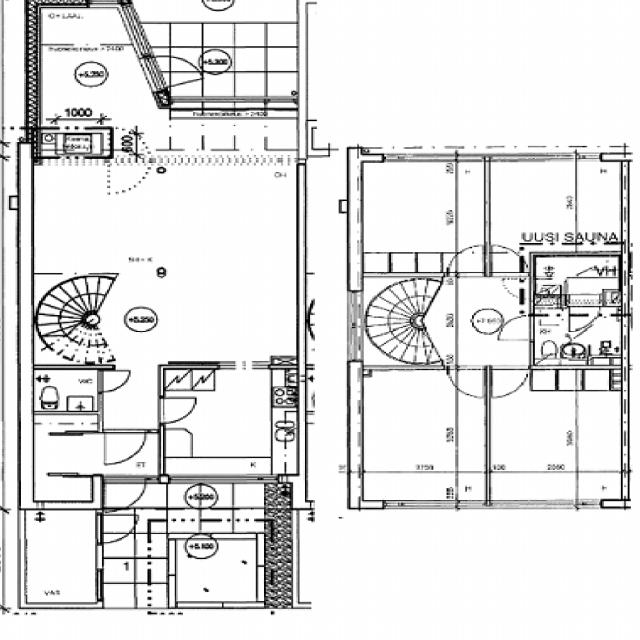door: (139, 45, 210, 93), (105, 474, 144, 514), (105, 428, 144, 462), (447, 365, 484, 398), (492, 365, 529, 398), (95, 515, 138, 543), (492, 244, 529, 276), (448, 244, 483, 276), (496, 314, 534, 340), (568, 302, 600, 330), (98, 371, 131, 392)
